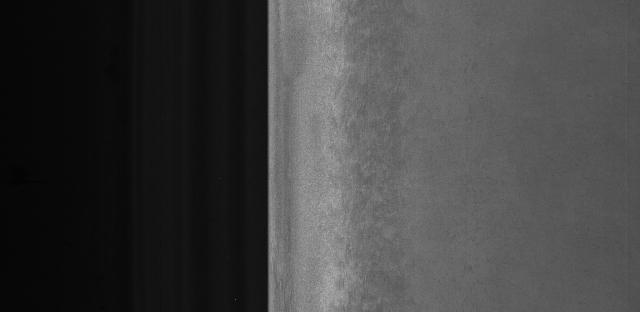silk_spot: (327, 32, 430, 288)
